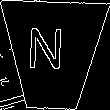N_S: (34, 30, 73, 81)
